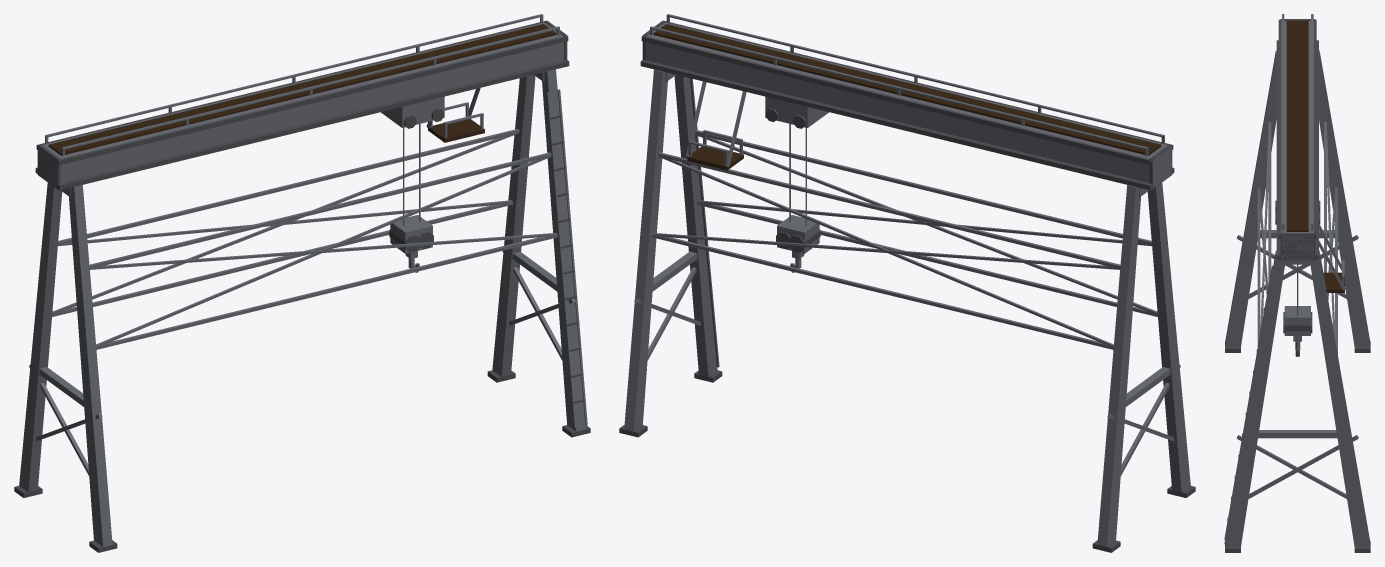
The model's file is SN_Shipyard_Gantry.glb.
3 views of the same model, side by side, from view 1: azimuth 30°, elevation 25°; view 2: azimuth 150°, elevation 25°; view 3: azimuth 270°, elevation 25° (orthographic). The views are drawn at different scales.
Parts seen in each view (by area): view 1: SN_Shipyard_Gantry; view 2: SN_Shipyard_Gantry; view 3: SN_Shipyard_Gantry.
Part boxes in pixels (left/top/right/bottom): SN_Shipyard_Gantry: left=14, top=14, right=590, bottom=552; SN_Shipyard_Gantry: left=619, top=14, right=1195, bottom=552; SN_Shipyard_Gantry: left=1224, top=14, right=1370, bottom=552.
Size of the model in its own units: 14 by 10 by 4.01.
